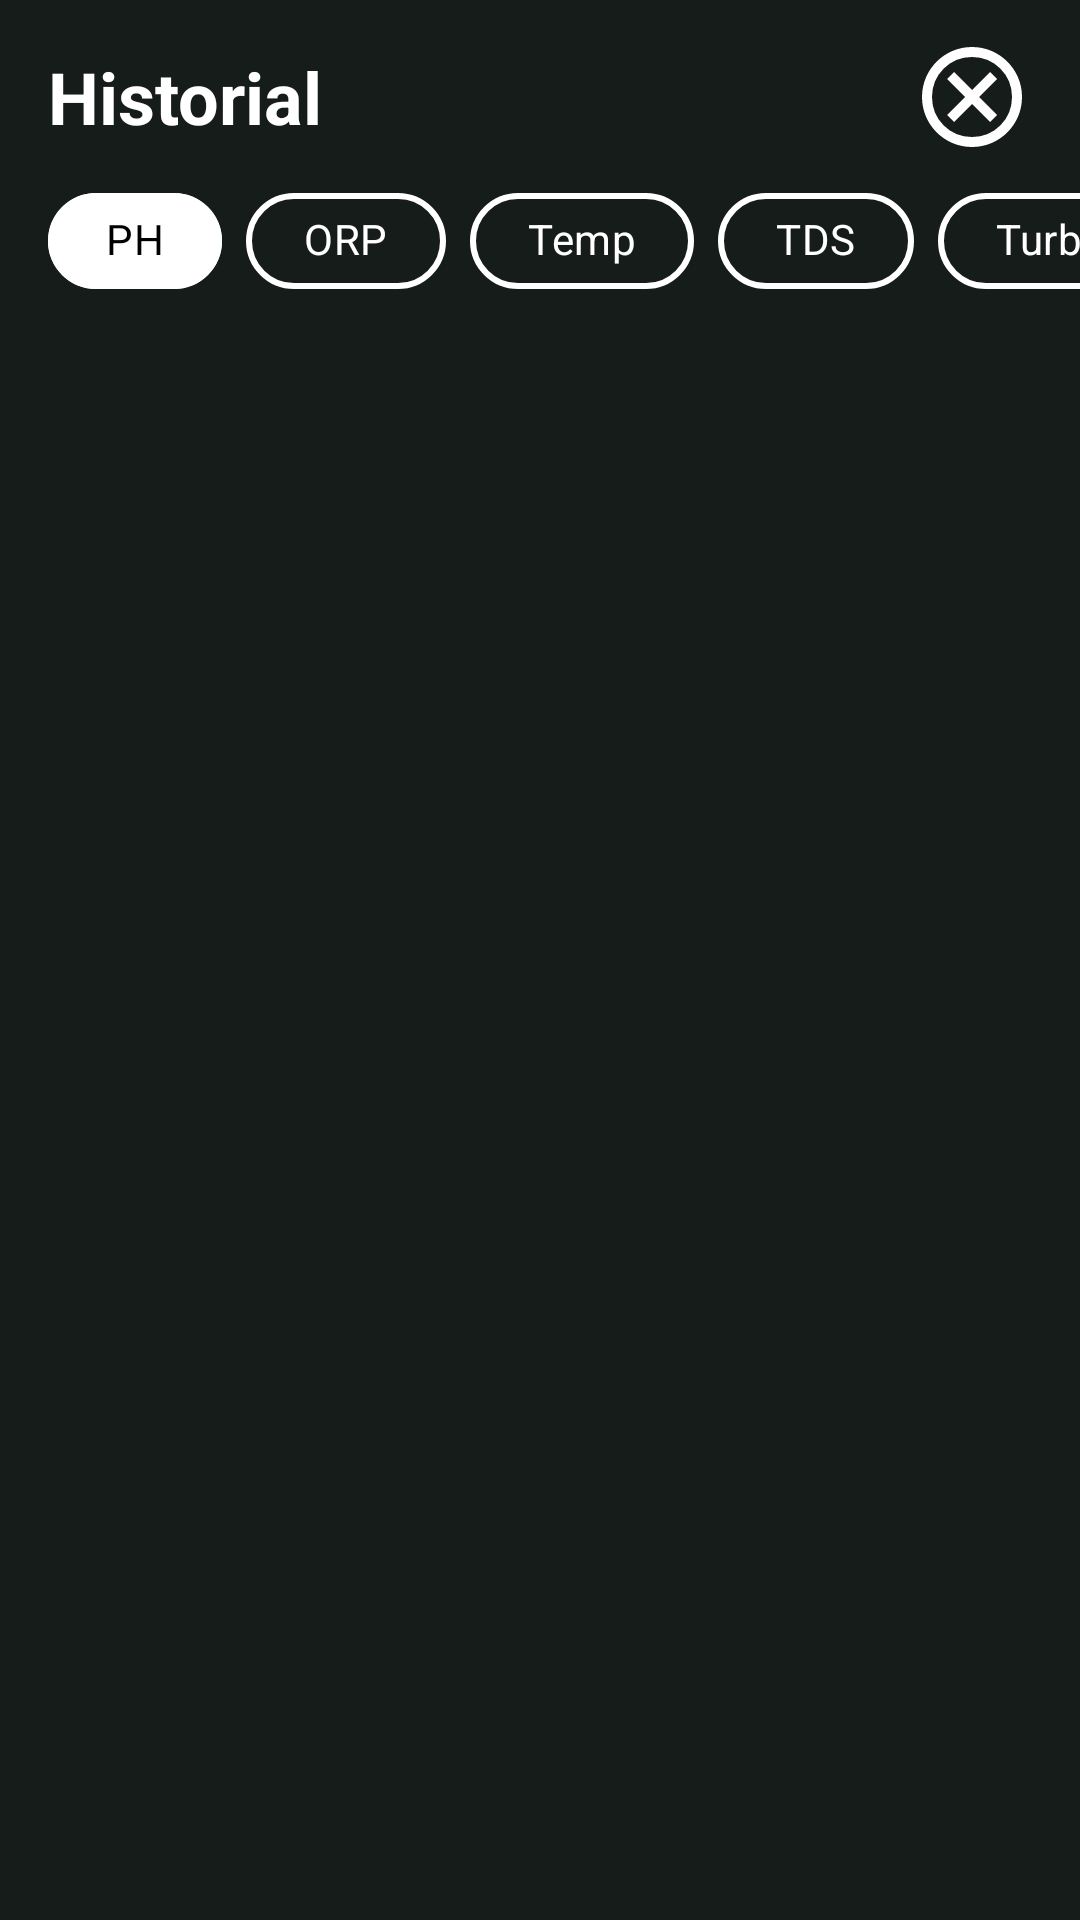

Locate icon controls on the screen. Image size 1080×1920, boxes as (x1, y1, x2, y2).
cerrar: (922, 47, 1022, 147)
